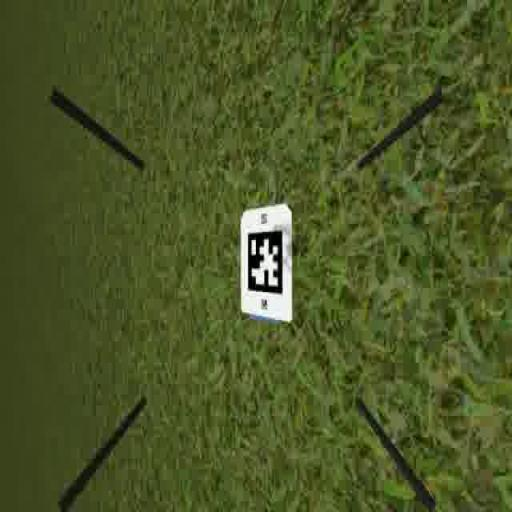UGV: (238, 197, 296, 333)
